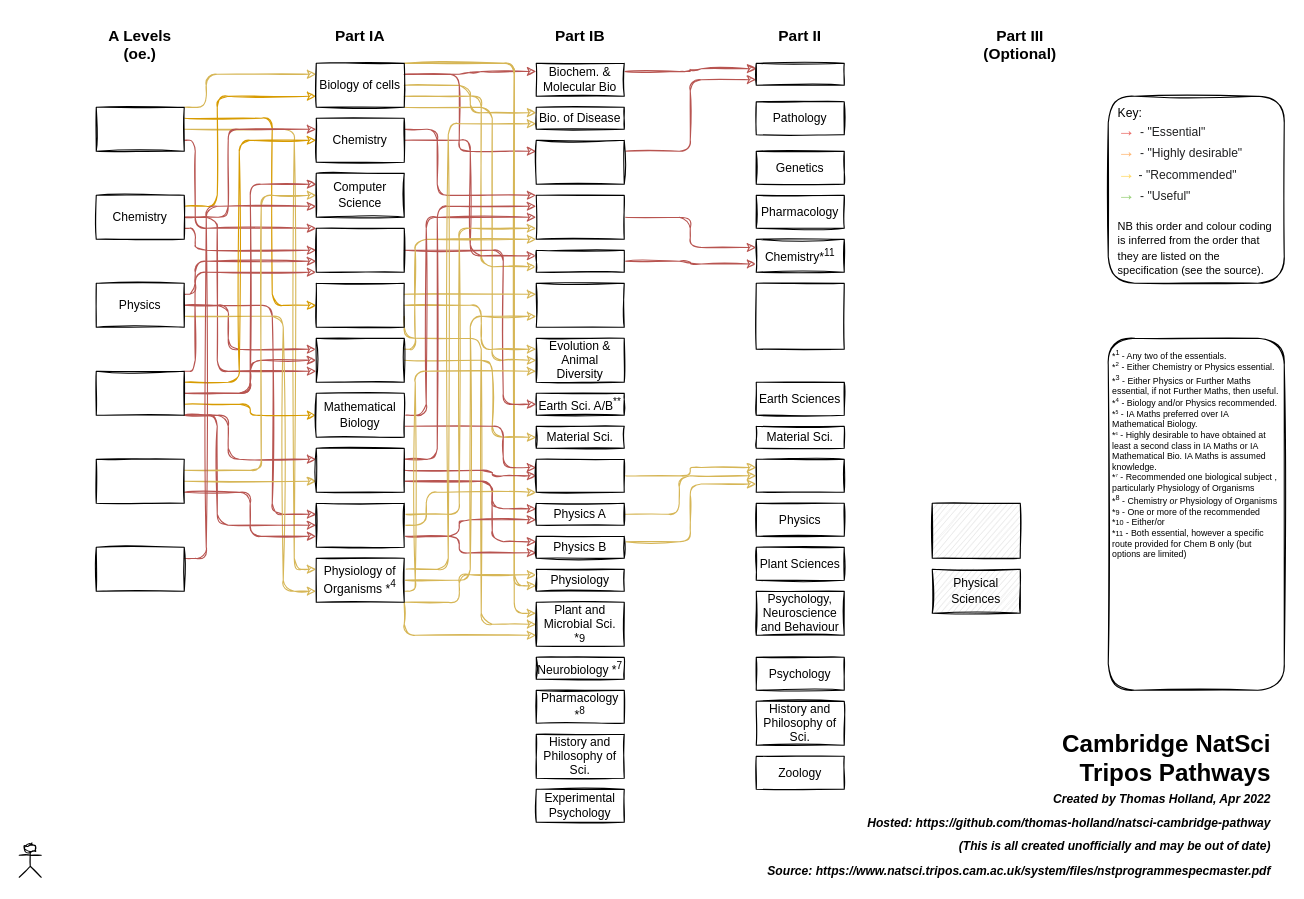
Image size: 1304x899. Some labels were removed from this diagram. Here are the shapes that lost their labels. From the top down, the box of each, then its label:
(755, 62, 844, 85): Biochemistry* 10
(95, 106, 184, 151): Biology
(535, 139, 624, 184): Cell and Development Bio.
(535, 194, 624, 239): Chemistry A * 5
(315, 227, 404, 272): Earth Sciences * 1
(535, 249, 624, 272): Chemistry B
(315, 282, 404, 327): Evolution and Behaviour
(535, 282, 624, 327): Ecology, Evolution & Conservation
(755, 282, 844, 349): Physiology, Development and Neuroscience
(315, 337, 404, 382): Material Sciences * 2
(95, 370, 184, 415): Maths
(95, 458, 184, 503): Further Maths
(315, 447, 404, 492): Mathematics
(535, 458, 624, 492): Mathematics * 6
(755, 458, 844, 492): Astrophysics
(315, 502, 404, 547): Physics * 3
(931, 502, 1020, 558): Biological and Biomedical Sciences
(95, 546, 184, 591): Other course or pre-reading
